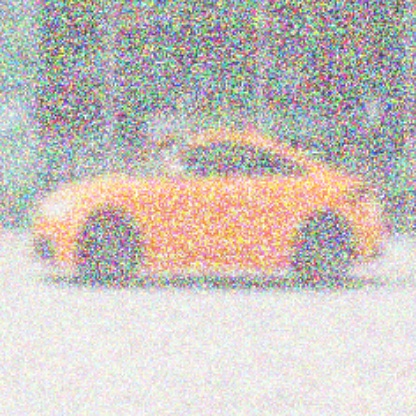Vehicle: (23, 122, 386, 297)
